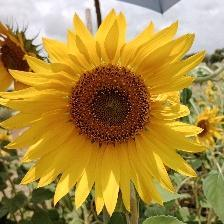sunflower: (15, 22, 202, 206)
